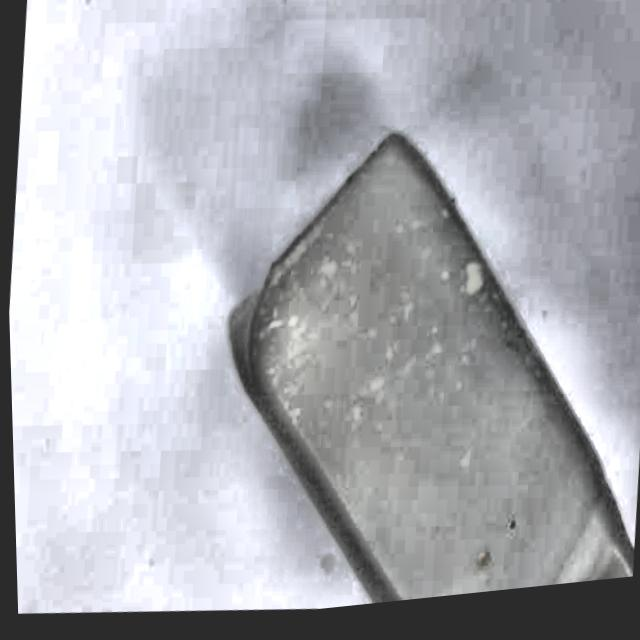Plastic: (173, 68, 640, 626)
